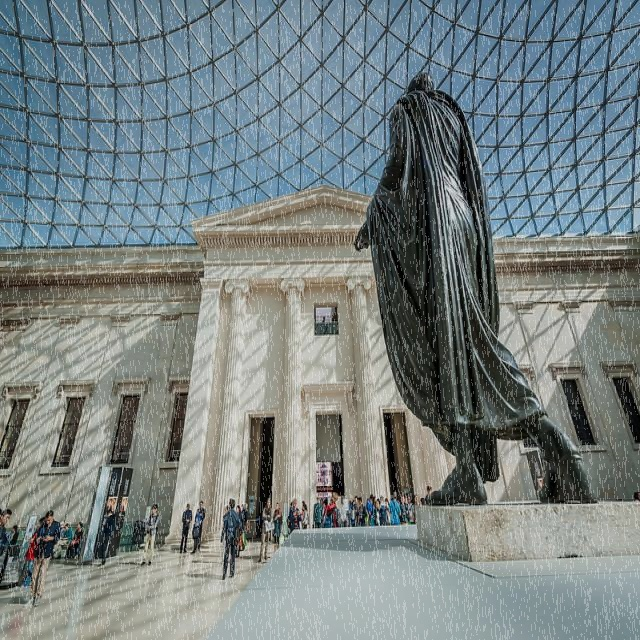pessoa: (351, 64, 601, 507), (22, 508, 62, 610), (22, 514, 48, 590), (220, 497, 242, 581), (138, 502, 160, 566), (258, 497, 274, 563), (51, 520, 73, 560), (101, 508, 115, 566), (0, 507, 15, 561), (66, 521, 85, 561), (178, 502, 192, 554), (324, 492, 342, 530), (234, 504, 246, 560), (188, 508, 202, 554), (221, 502, 231, 564), (52, 518, 66, 557), (4, 524, 19, 560), (288, 496, 302, 534), (196, 499, 206, 552), (387, 491, 402, 526), (272, 502, 284, 545), (76, 534, 94, 560), (354, 496, 368, 528), (312, 496, 324, 530), (378, 494, 391, 524), (398, 493, 409, 526), (372, 498, 382, 527), (411, 493, 420, 525), (366, 492, 374, 527), (352, 494, 360, 528), (240, 503, 249, 526), (424, 484, 433, 506), (104, 496, 115, 512), (302, 502, 308, 530), (320, 496, 329, 514), (406, 494, 414, 514), (348, 504, 356, 524), (300, 499, 308, 512), (120, 496, 127, 510), (632, 490, 640, 502), (396, 498, 402, 510), (372, 494, 376, 506), (322, 315, 326, 324), (0, 506, 3, 518), (290, 499, 294, 506), (240, 503, 243, 511)
